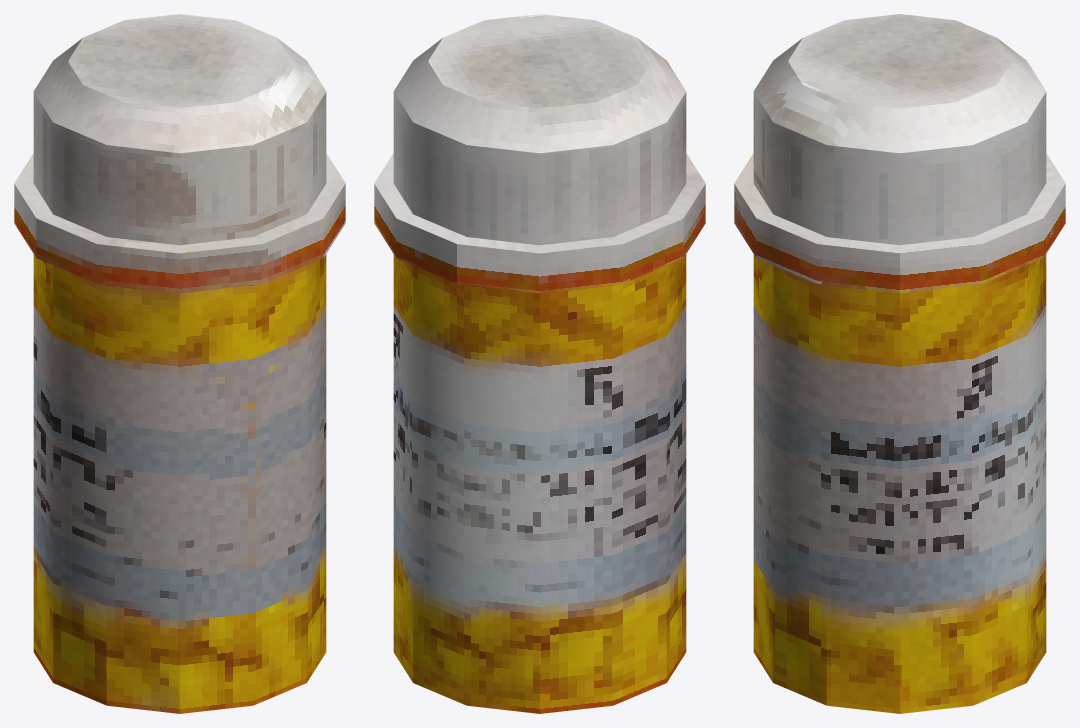
File: pills.glb
3 views of the same model, side by side, from view 1: azimuth 30°, elevation 25°; view 2: azimuth 150°, elevation 25°; view 3: azimuth 270°, elevation 25° (orthographic).
Visible parts, largest first — view 1: Meds; view 2: Meds; view 3: Meds.
Part boxes in pixels (x1,y1,x2,y2): Meds: (14, 14, 345, 713); Meds: (374, 14, 705, 713); Meds: (734, 14, 1065, 713).
Size of the model in its own units: 0.3421 by 0.6727 by 0.3421.
1 material, 1 textured.
